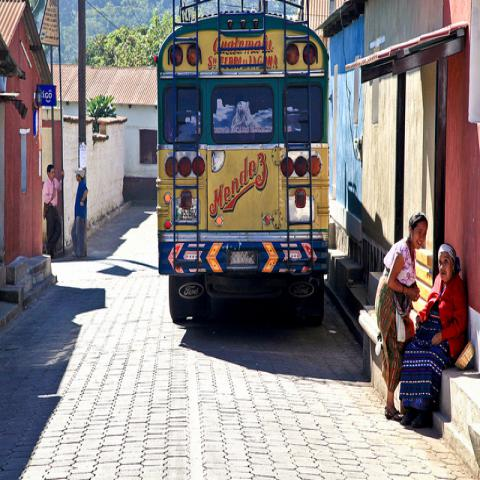bus: (151, 10, 331, 324)
